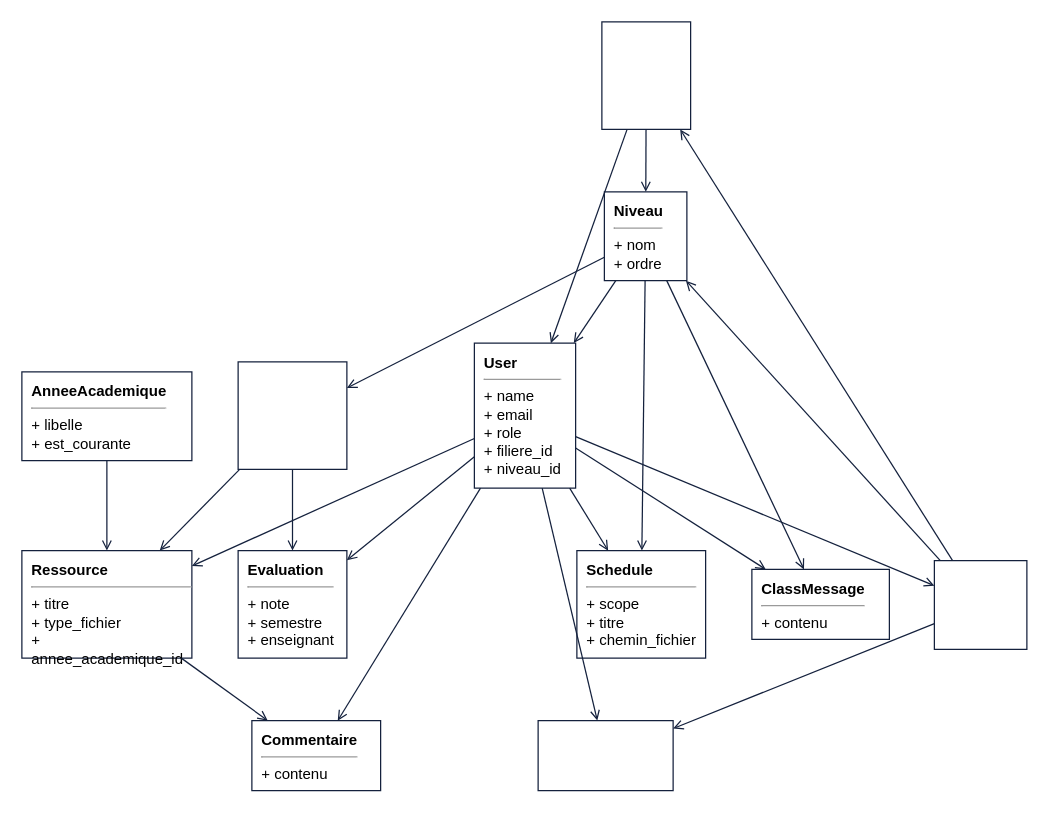
Image size: 1049x813. Some labels were removed from this diagram. Here are the shapes that lost their labels. From the top down, the centre of each, then its label:
At point (646, 75): "Filiere + code + nom + couleur".
At point (292, 415): "Matiere + nom + semestre + enseignant".
At point (980, 604): "Post + contenu + image".
At point (605, 755): "PostComment + contenu".
